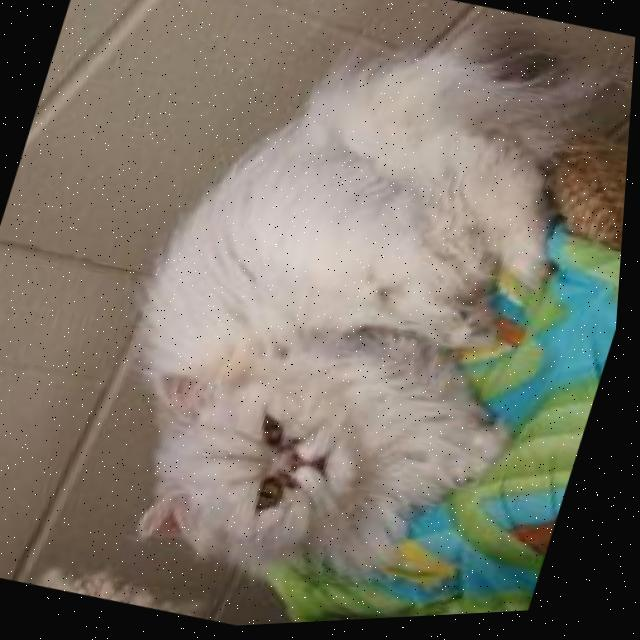Persian: (61, 0, 640, 636)
